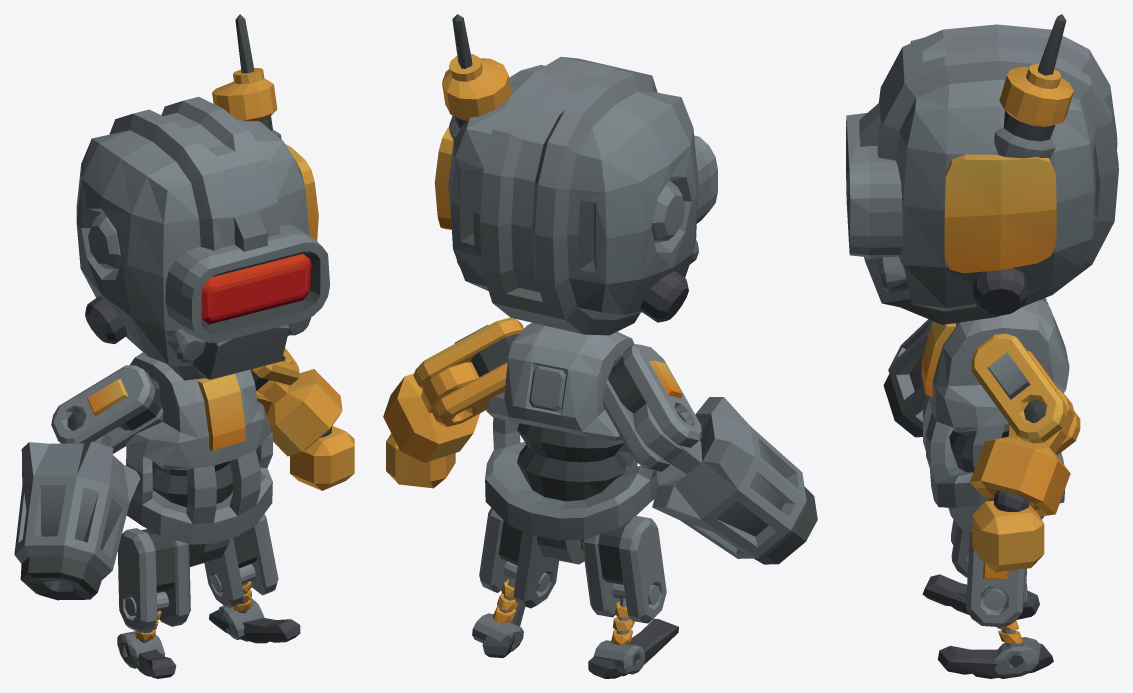
The model's file is robot-two.glb.
3 views of the same model, side by side, from view 1: azimuth 30°, elevation 25°; view 2: azimuth 150°, elevation 25°; view 3: azimuth 270°, elevation 25° (orthographic). The views are drawn at different scales.
Parts seen in each view (by area): view 1: robot-two; view 2: robot-two; view 3: robot-two.
Boxes of the visible parts, x1,y1,x2,y2 form: robot-two: (14,14,354,678); robot-two: (383,14,817,678); robot-two: (846,14,1118,678).
Bounding box in the file's own units: 0.6252 × 1 × 0.3688.
